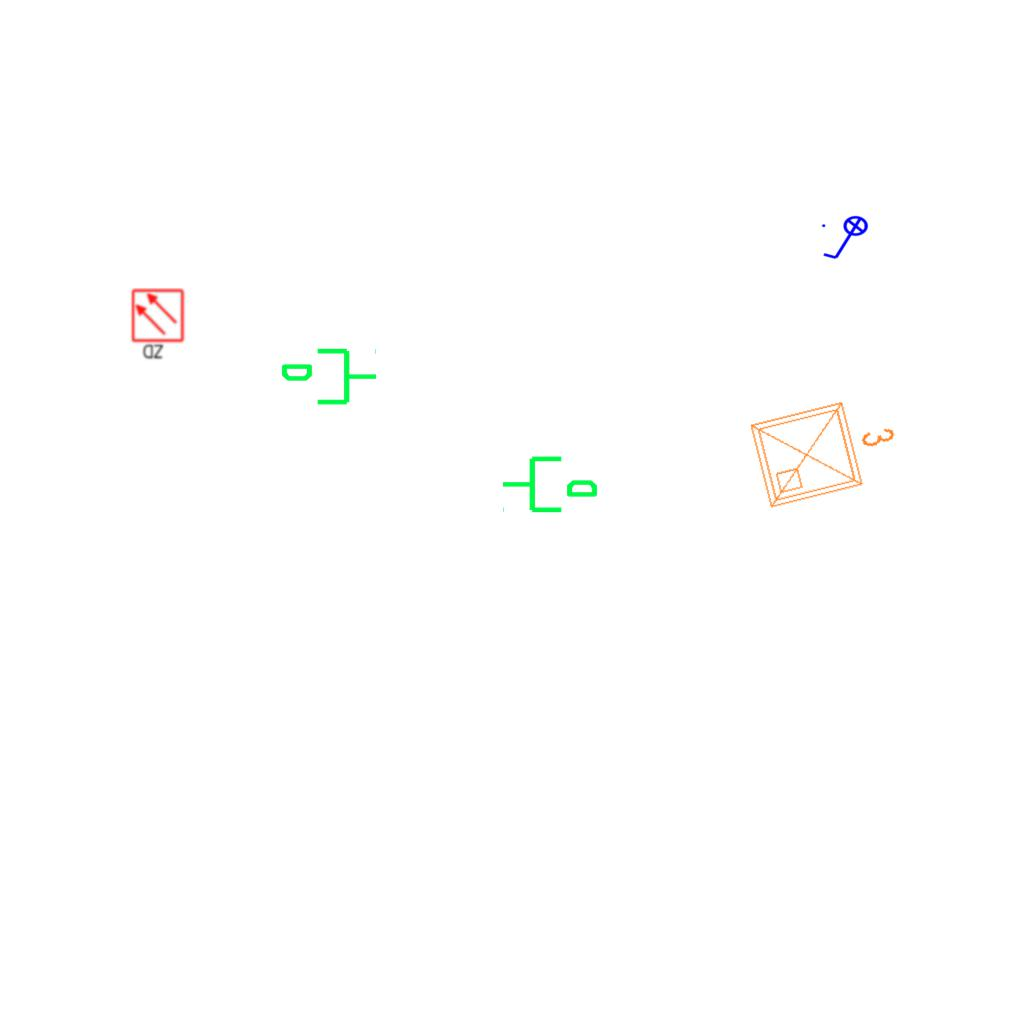Ausschalter_beleuchtet: (819, 215, 875, 263)
Datenanschluss_einfach: (500, 448, 600, 517), (279, 344, 379, 413)
Einbaudownlights_LED_Konferenzraeume: (740, 379, 912, 517)
ZD_Melder_in_Zwischendecke_mit_Revisionsoeffnung_mind_40_x_40_cm: (130, 288, 187, 362)
